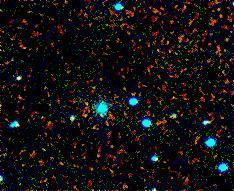star: (86, 102, 116, 132)
